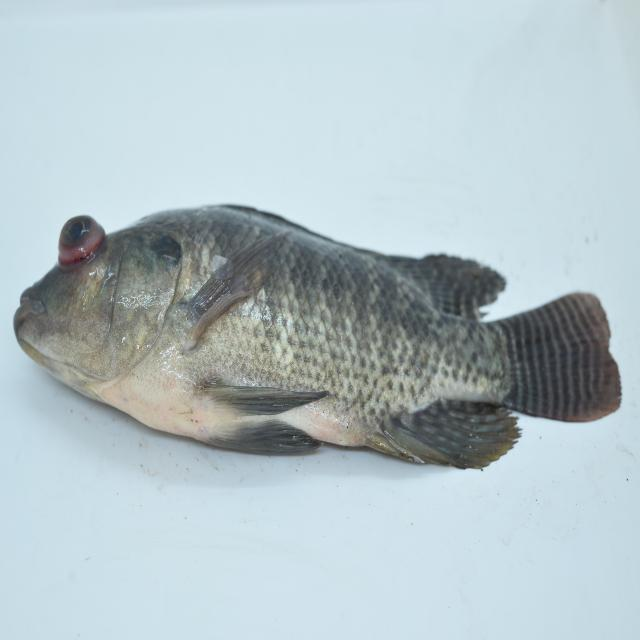streptococcus Disease: (10, 196, 620, 472)
